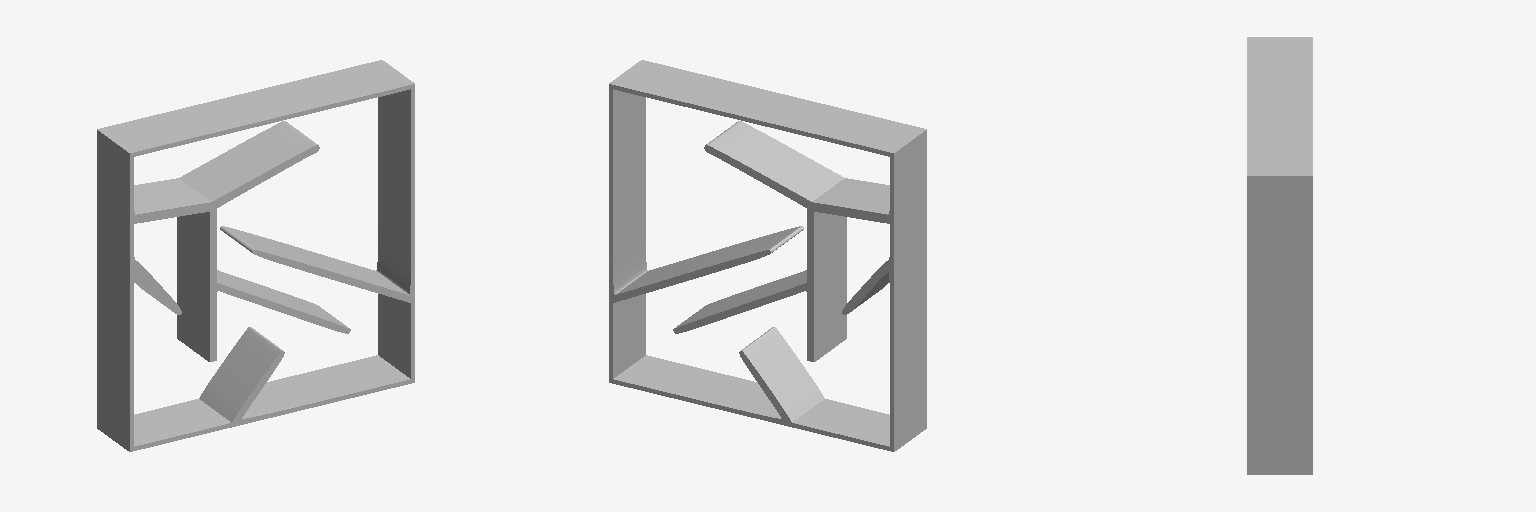
The model's file is maze_hard.obj.
3 renders of one model, left to right at view 1: azimuth 30°, elevation 25°; view 2: azimuth 150°, elevation 25°; view 3: azimuth 270°, elevation 25°, orthographic.
Parts seen in each view (by area): view 1: Curve_mesh_Curve.015; view 2: Curve_mesh_Curve.015; view 3: Curve_mesh_Curve.015.
Part boxes in pixels (bbox=[...]): Curve_mesh_Curve.015: bbox=[97, 60, 414, 451]; Curve_mesh_Curve.015: bbox=[609, 60, 926, 451]; Curve_mesh_Curve.015: bbox=[1247, 37, 1312, 474].
Size of the model in its own units: 1 by 1 by 0.2.